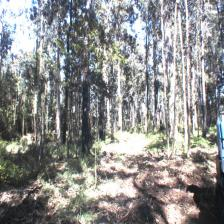trunktrack_idkeyframe: (80, 97, 90, 142), (201, 86, 207, 137)
